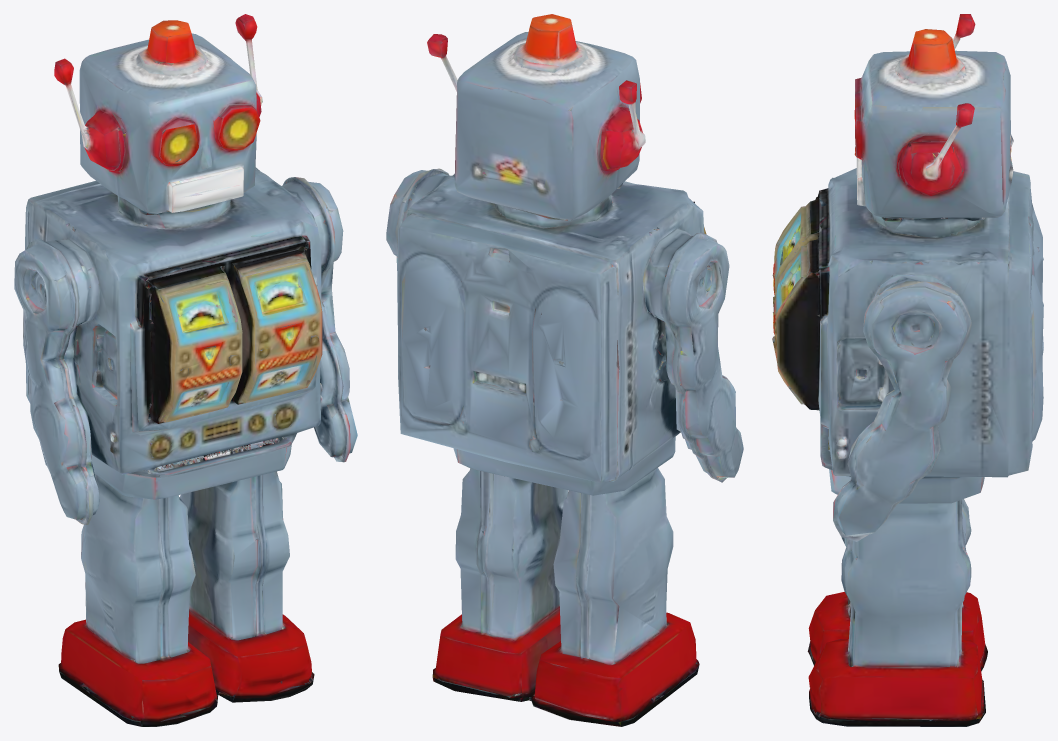
Rendered from robot_opt.glb.
The picture shows the model from 3 angles, left to right: view 1: azimuth 30°, elevation 25°; view 2: azimuth 150°, elevation 25°; view 3: azimuth 270°, elevation 25°; orthographic projection. The views are drawn at different scales.
Parts seen in each view (by area): view 1: Mesh1.0_Material.001_0; view 2: Mesh1.0_Material.001_0; view 3: Mesh1.0_Material.001_0.
Boxes of the visible parts, bbox=[...] form: Mesh1.0_Material.001_0: bbox=[14, 14, 357, 726]; Mesh1.0_Material.001_0: bbox=[386, 14, 743, 726]; Mesh1.0_Material.001_0: bbox=[772, 14, 1043, 726].
Size of the model in its own units: 0.1438 by 0.3 by 0.1143.
Materials: 1 (1 with a texture image).
